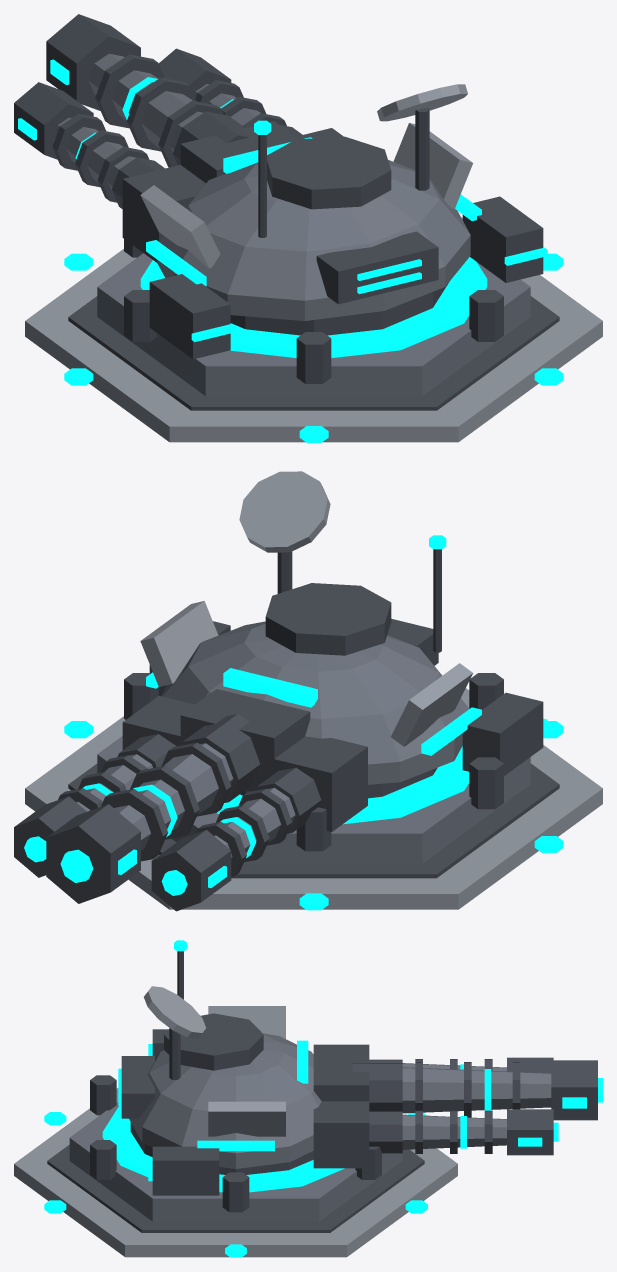
File: turret_lvl5.fbx
3 views of the same model, one above another, from view 1: azimuth 30°, elevation 25°; view 2: azimuth 150°, elevation 25°; view 3: azimuth 270°, elevation 25° (orthographic). The views are drawn at different scales.
Visible parts, largest first — view 1: BaseTier_61, Dome_05, Base_01, BaseSkirt_02, Cupola_60, Neon_BaseRing_03, BackVent_43, SaddleBag_56, SaddleBag_58, MuzzleBrake_36, BarrelMount_07, Pivot_04 (+25 smaller); view 2: Dome_05, BaseTier_61, Base_01, Cupola_60, BaseSkirt_02, MuzzleBrake_36, RadarDish_69, BarrelMount_07, BarrelMount_29, SaddleBag_56, MuzzleBrake_14, ArmorPlate_47 (+27 smaller); view 3: BaseTier_61, Dome_05, Base_01, BaseSkirt_02, BarrelTube_31, BarrelMount_18, Cupola_60, SaddleBag_58, Neon_BaseRing_03, BarrelMount_29, ArmorPlate_47, MuzzleBrake_36 (+18 smaller).
Boxes of the visible parts, box(x1,y1,x2,y2) form: BaseTier_61: box(25, 217, 602, 442); Dome_05: box(157, 160, 470, 320); Base_01: box(97, 253, 530, 396); BaseSkirt_02: box(68, 296, 559, 410); Cupola_60: box(267, 136, 391, 209); Neon_BaseRing_03: box(140, 257, 487, 357); BackVent_43: box(316, 231, 438, 304); SaddleBag_56: box(149, 274, 230, 359); SaddleBag_58: box(462, 196, 543, 282); MuzzleBrake_36: box(46, 14, 140, 110); BarrelMount_07: box(122, 165, 205, 262); Pivot_04: box(230, 282, 448, 335); Dome_05: box(161, 621, 469, 784); BaseTier_61: box(25, 688, 602, 909); Base_01: box(97, 736, 530, 863); Cupola_60: box(265, 583, 391, 655); BaseSkirt_02: box(68, 763, 559, 878); MuzzleBrake_36: box(46, 804, 140, 903); RadarDish_69: box(239, 471, 330, 552); BarrelMount_07: box(260, 736, 367, 831); BarrelMount_29: box(180, 689, 310, 791); SaddleBag_56: box(462, 692, 543, 775); MuzzleBrake_14: box(151, 830, 231, 911); ArmorPlate_47: box(140, 601, 218, 686); BaseTier_61: box(14, 1088, 457, 1257); Dome_05: box(129, 1033, 321, 1168); Base_01: box(69, 1102, 402, 1221); BaseSkirt_02: box(47, 1144, 424, 1232); BarrelTube_31: box(402, 1067, 551, 1113); BarrelMount_18: box(313, 1101, 369, 1168); Cupola_60: box(164, 1013, 263, 1070); SaddleBag_58: box(152, 1146, 219, 1195); Neon_BaseRing_03: box(102, 1106, 344, 1192); BarrelMount_29: box(313, 1050, 369, 1101); ArmorPlate_47: box(208, 1101, 285, 1136); MuzzleBrake_36: box(551, 1060, 597, 1120).
Size of the model in its own units: 511 by 272 by 690.
